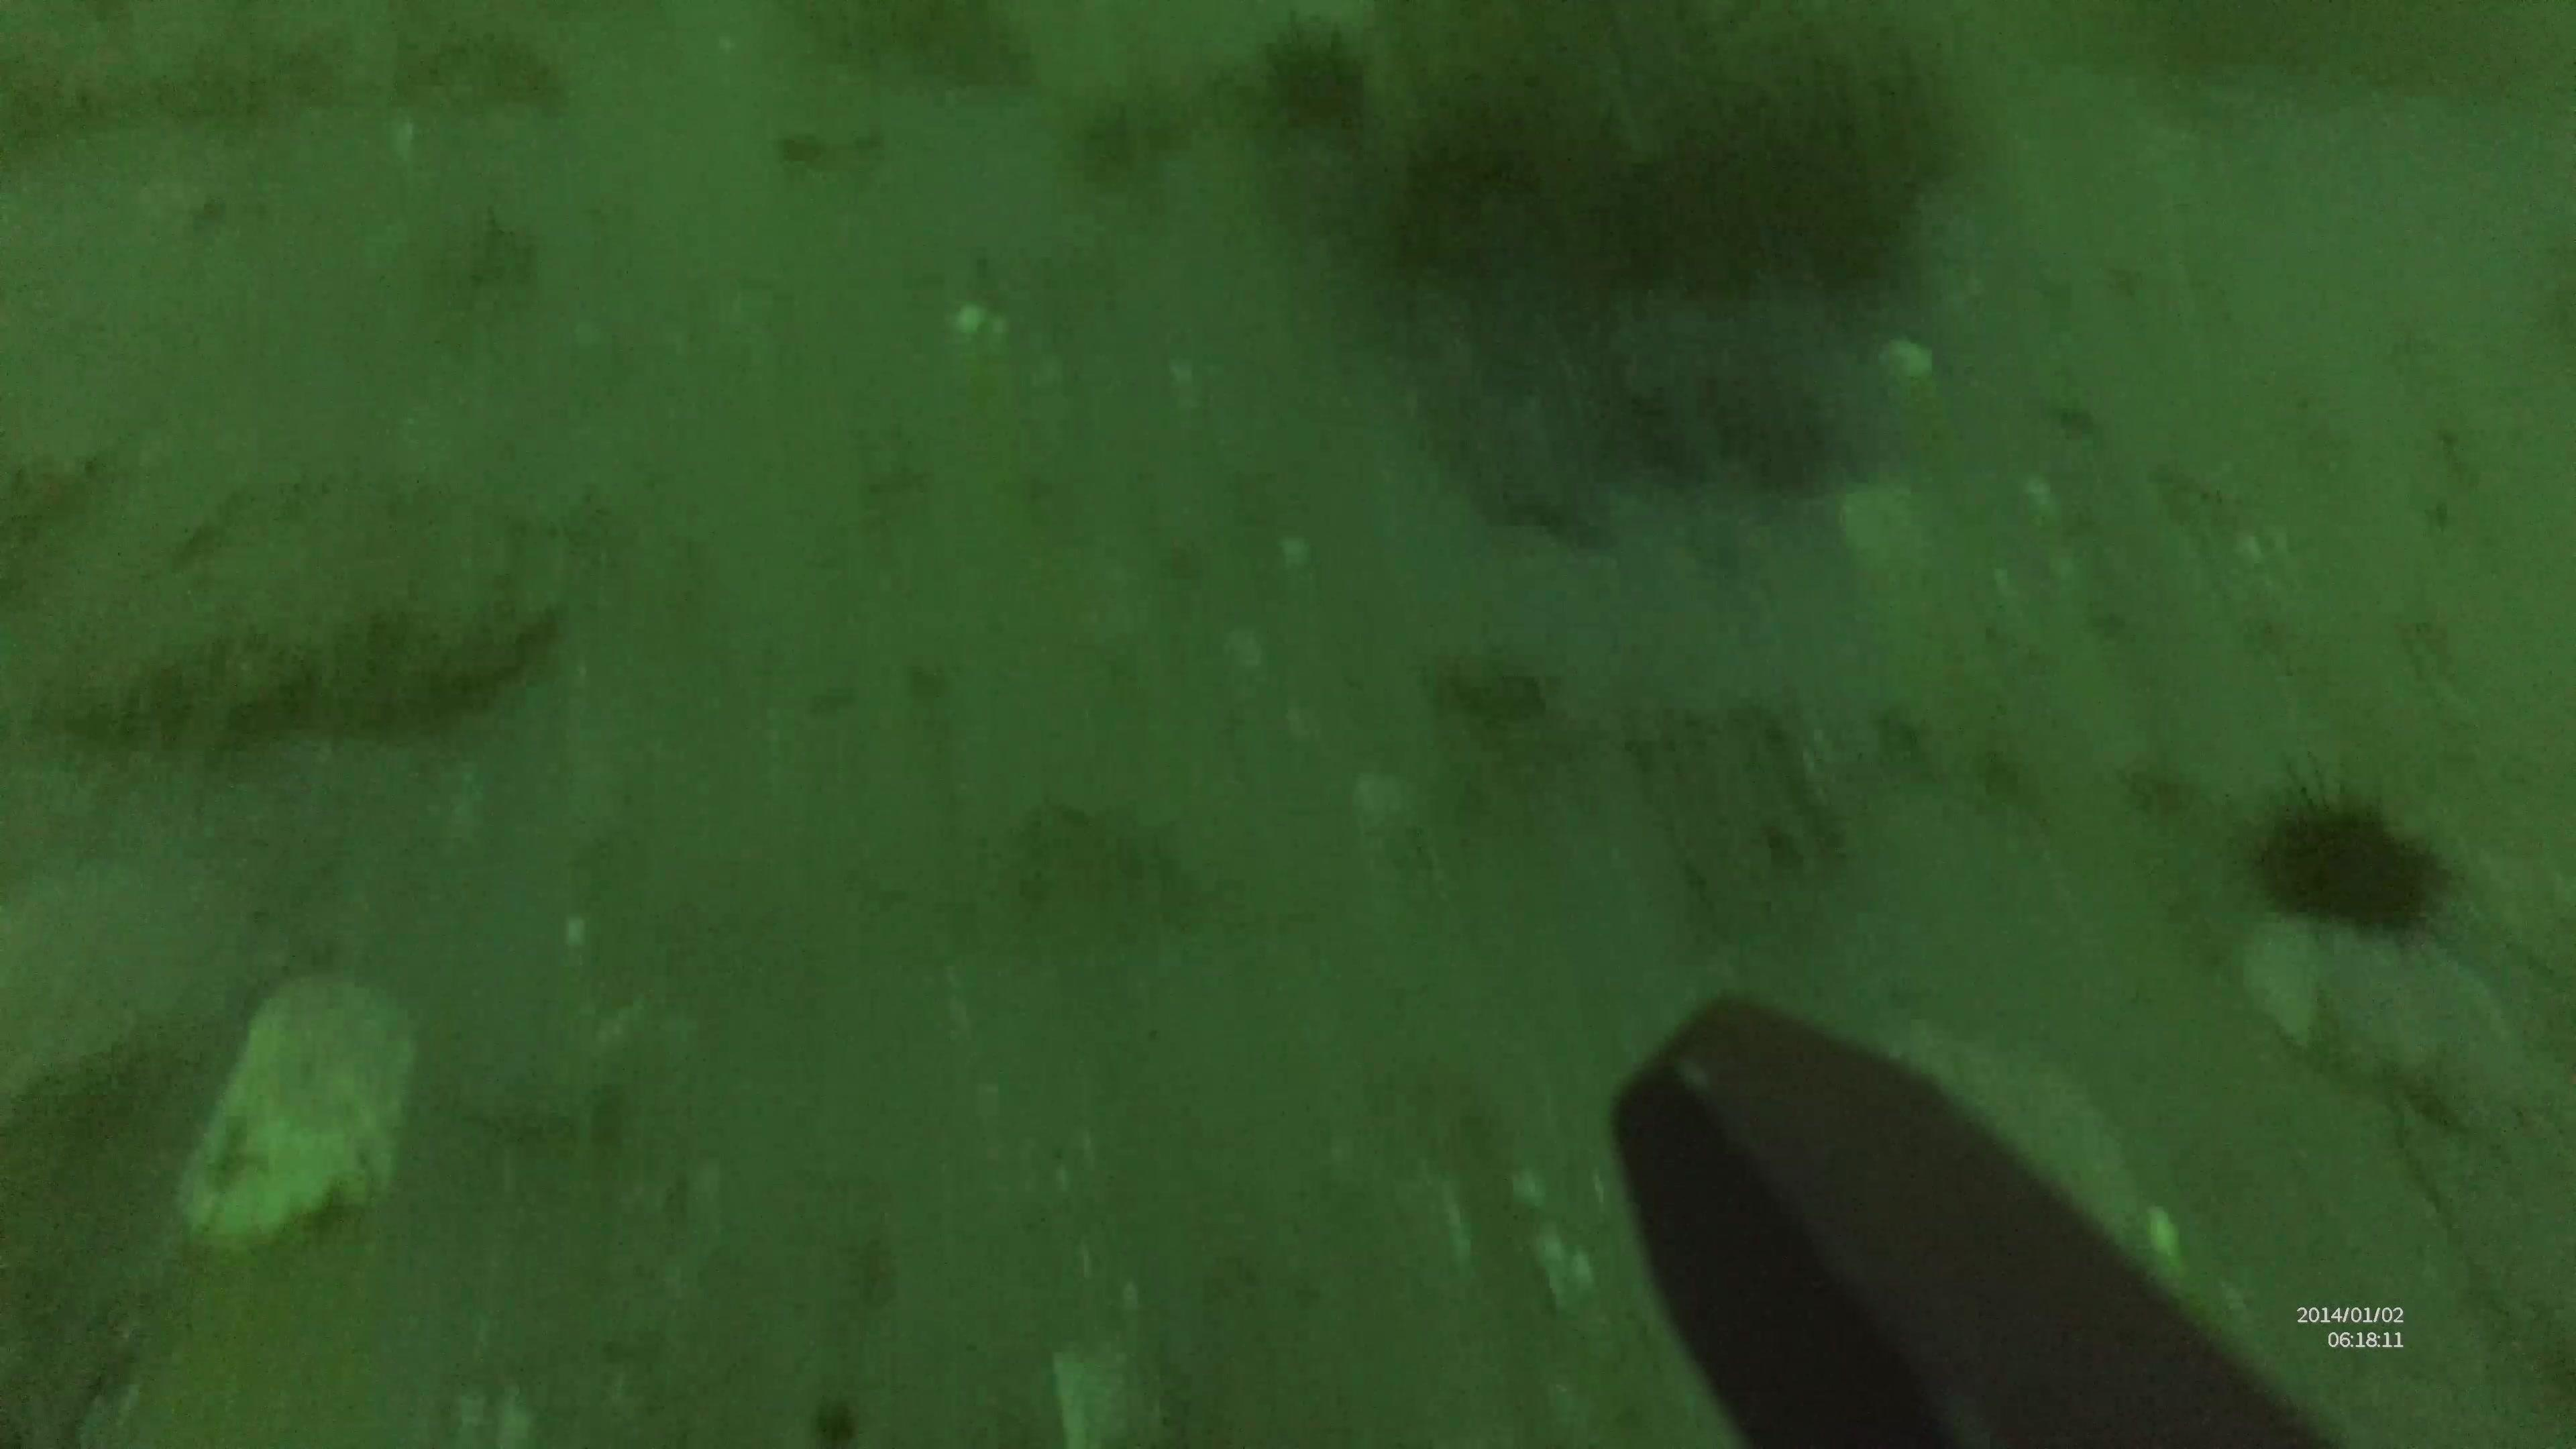echinus: (2259, 757, 2445, 945)
